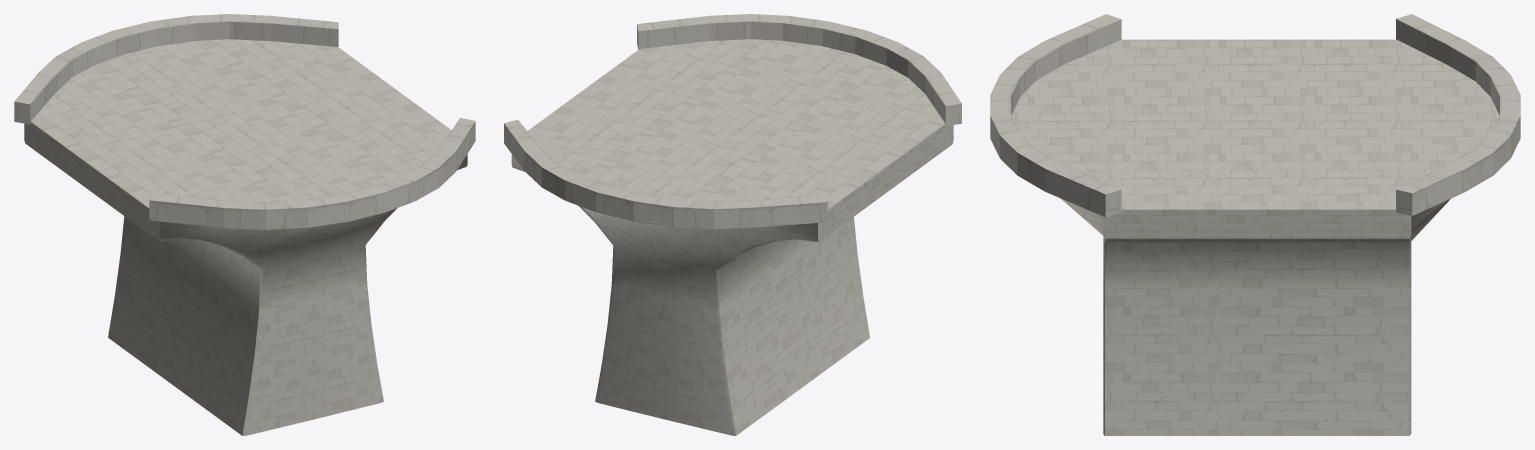
File: Bridge2.fbx
The picture shows the model from 3 angles, left to right: view 1: azimuth 30°, elevation 25°; view 2: azimuth 150°, elevation 25°; view 3: azimuth 270°, elevation 25°; orthographic projection. The views are drawn at different scales.
Visible parts, largest first — view 1: bridge2.001; view 2: bridge2.001; view 3: bridge2.001.
Part boxes in pixels (x1,y1,x2,y2): bridge2.001: (14,14,475,435); bridge2.001: (504,14,961,435); bridge2.001: (990,14,1520,435).
Bounding box in the file's own units: 1292 × 787 × 1040.
Materials: 1 (1 with a texture image).
